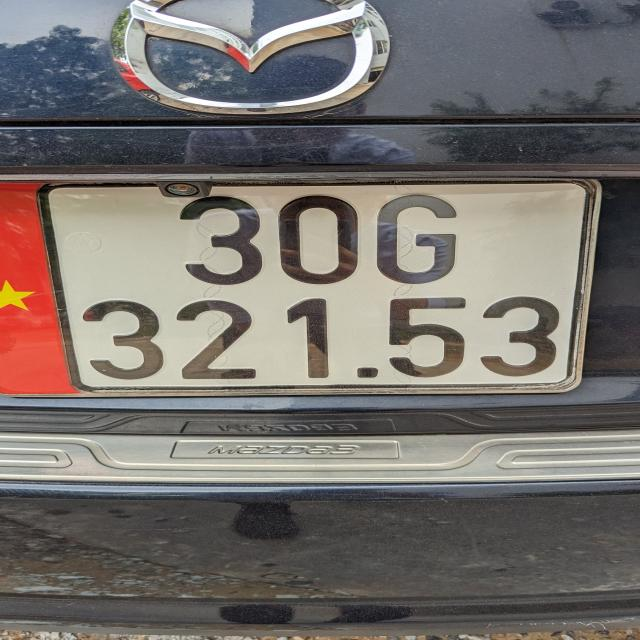License: (33, 177, 599, 396)
